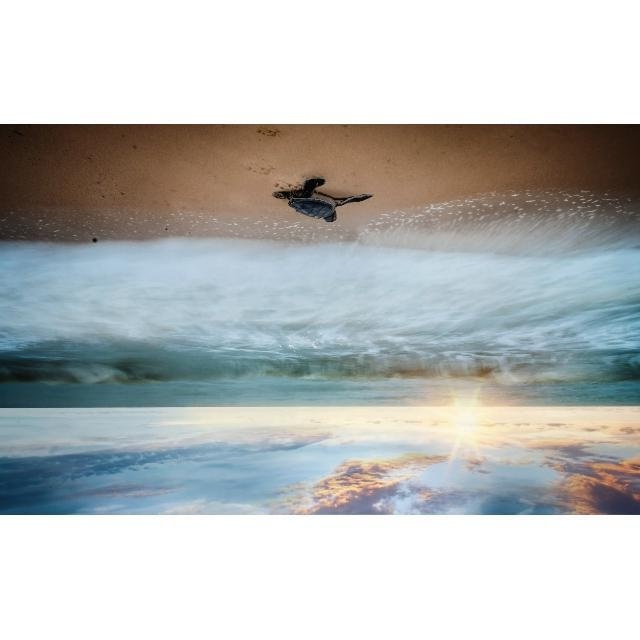turtle: (271, 175, 372, 224)
